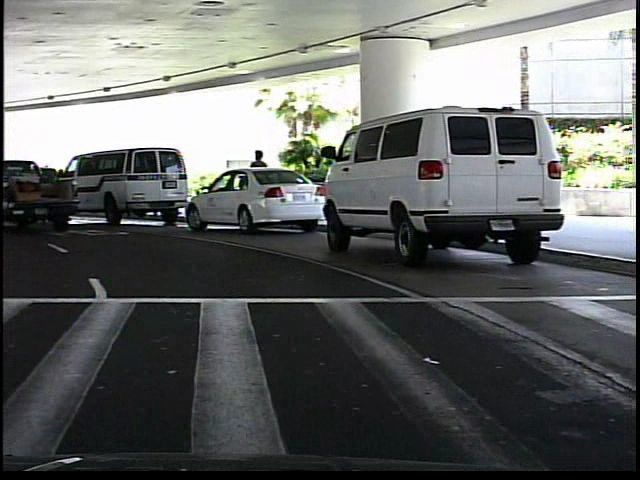person: (247, 145, 275, 220)
